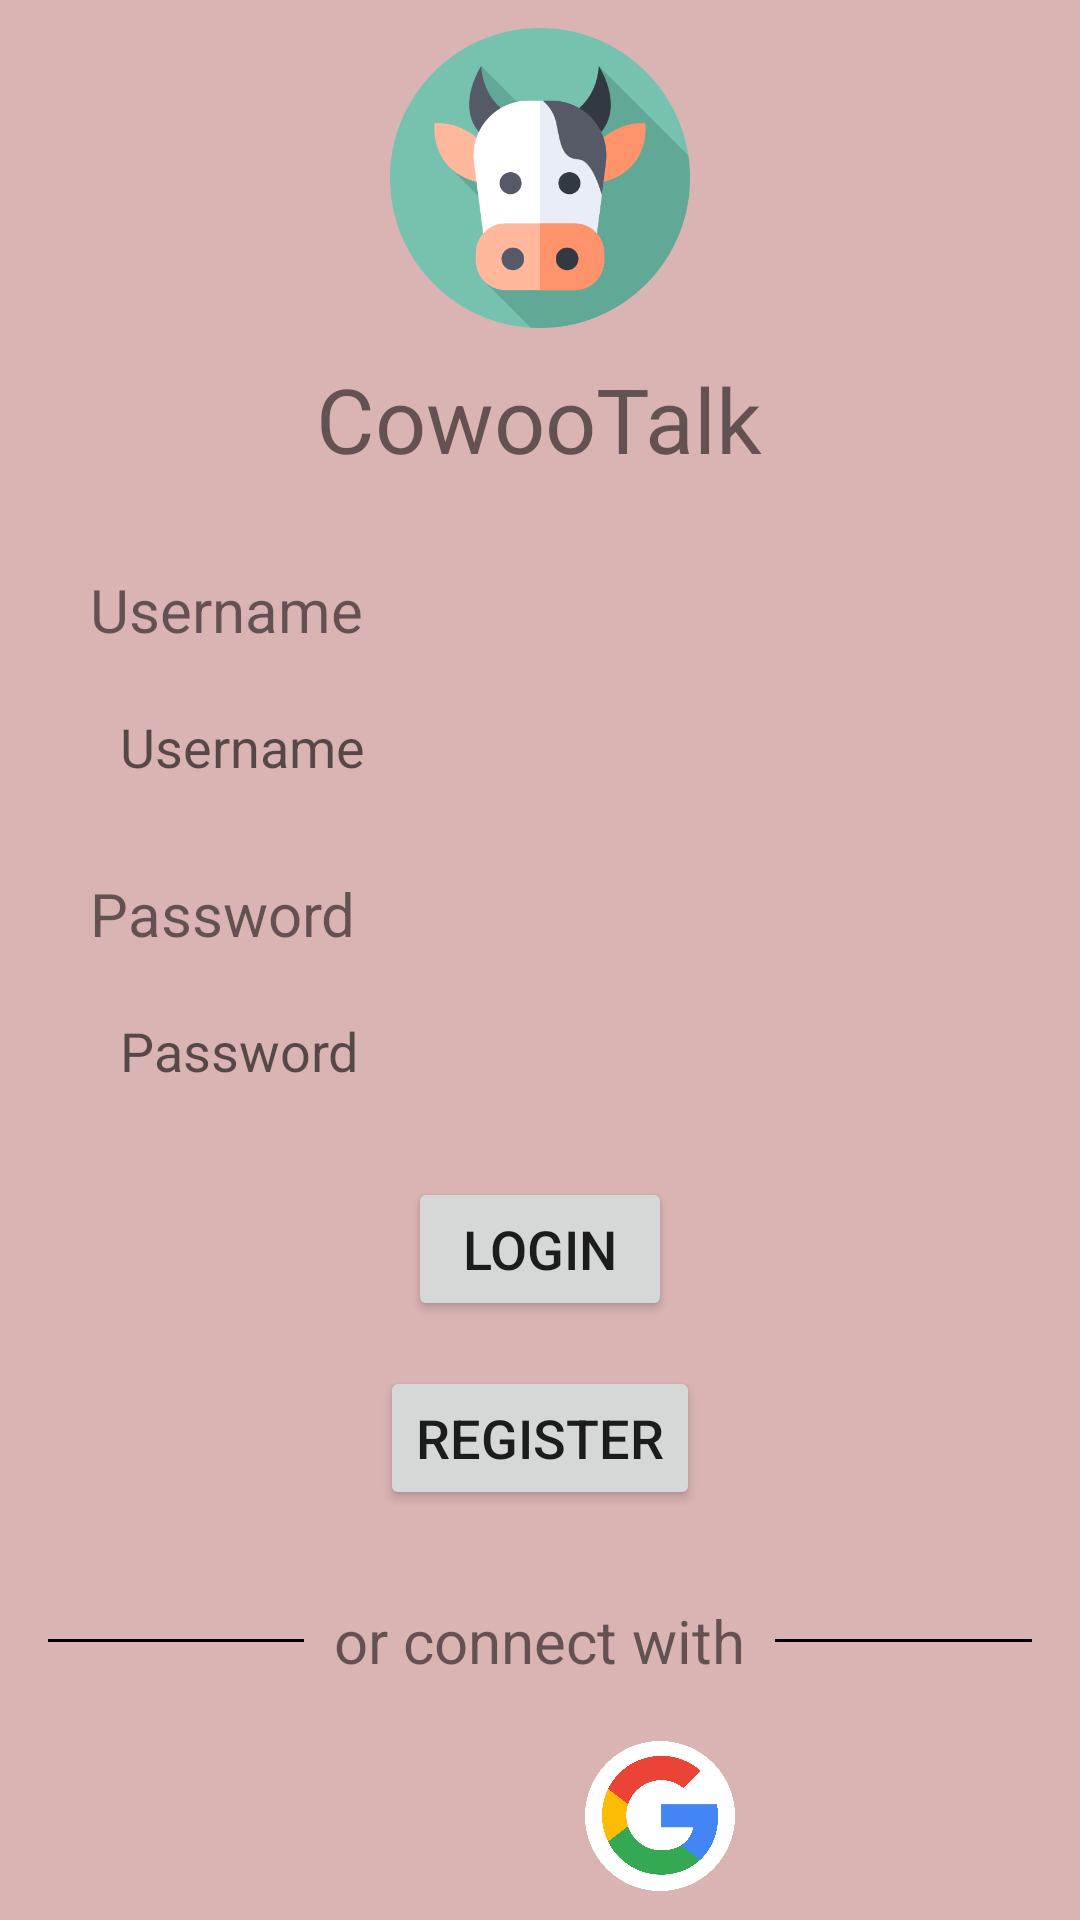

Point at icon controls on the screen. Image size 1080w x 1920h, points as (x=x, y=y).
cow: (x=540, y=178)
